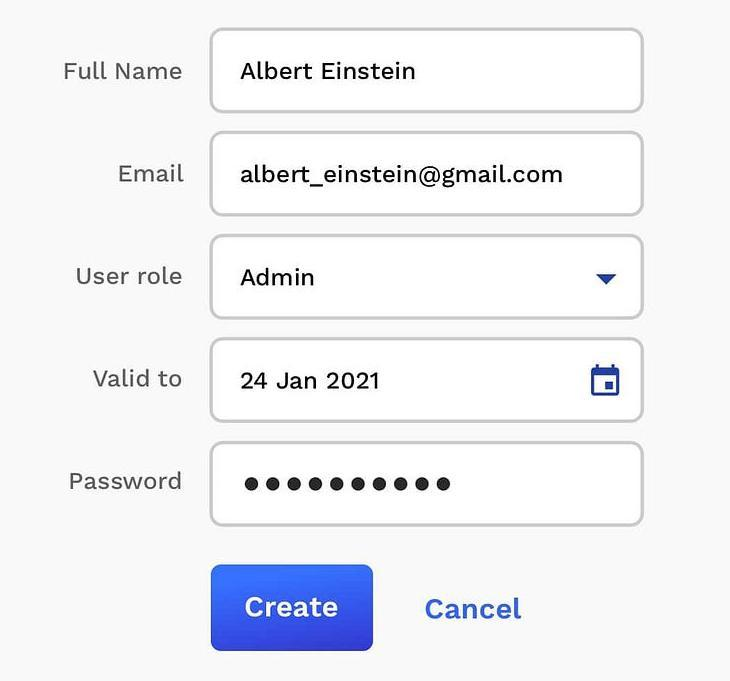button: (210, 563, 377, 652)
dropdown: (208, 235, 647, 322)
icon: (591, 363, 623, 400)
input: (210, 130, 647, 220), (208, 26, 645, 114), (210, 340, 646, 423), (210, 444, 644, 524)
label: (68, 468, 186, 493), (63, 60, 183, 82), (76, 266, 183, 290), (88, 365, 184, 390), (426, 597, 528, 620), (119, 162, 189, 186)
